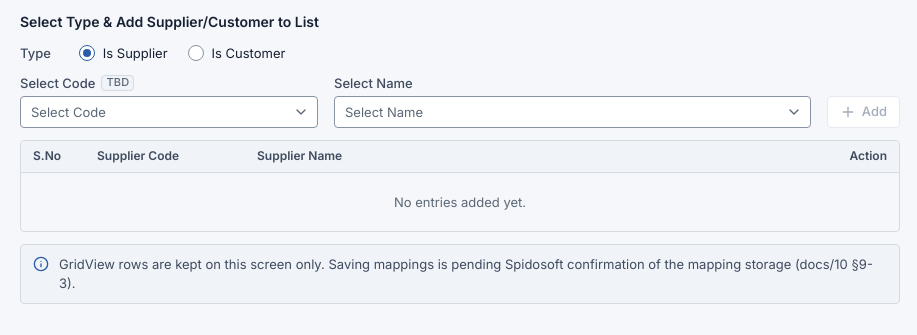
Test case: MappingSection › numbers rows and removes a row with Delete
This screenshot has width=917, height=335.
Select "SMSP0001" in the dropdown labelled "Select Code TBD" at x=169, y=112, box [20,96,318,128]
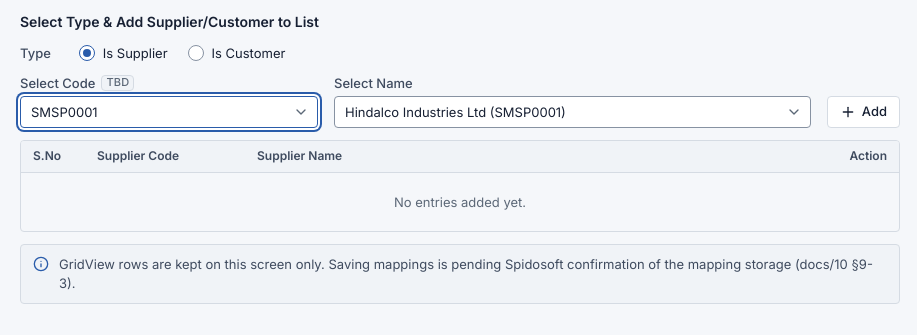
Click the button "Add" at x=863, y=112, box [827,96,900,128]
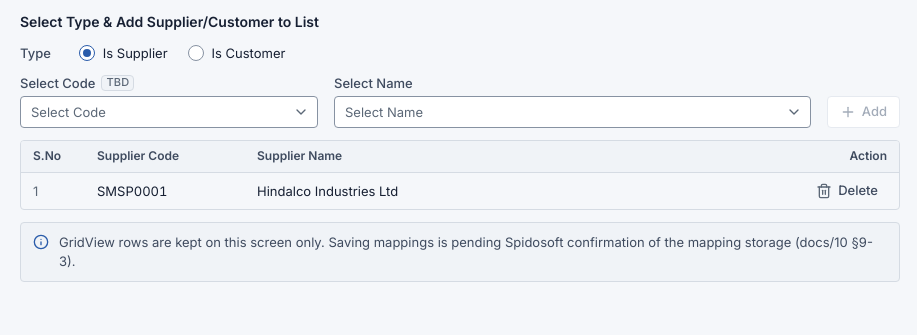
Select "SMSP0002" in the dropdown labelled "Select Code TBD" at x=169, y=112, box [20,96,318,128]
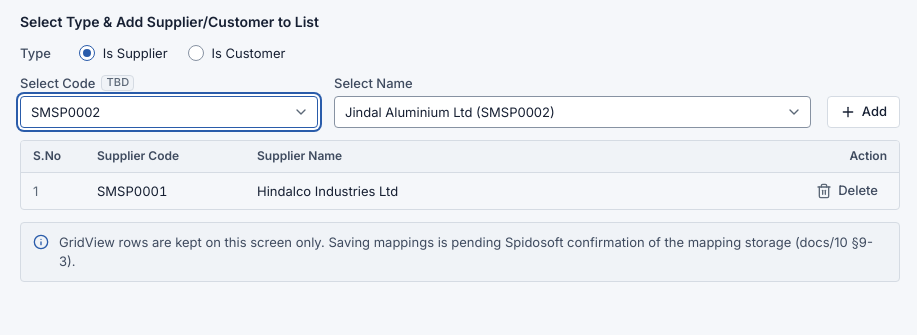
Click the button "Add" at x=863, y=112, box [827,96,900,128]
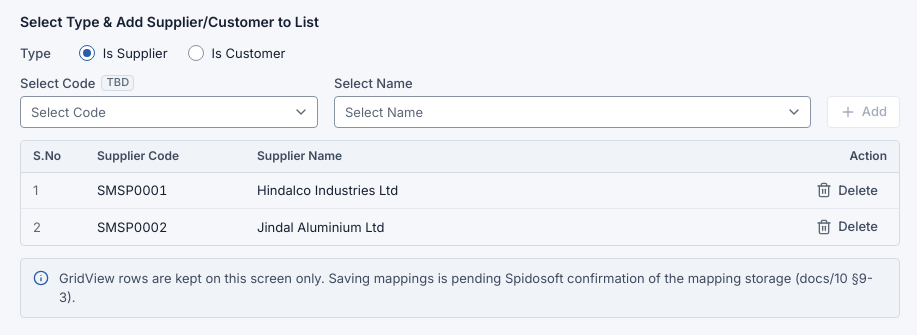
Now the number of rows is 3, box [21,141,899,173]; [21,173,899,209]; [21,209,899,245]
Click the button with aria-label "Delete SMSP0001" at x=847, y=190, box [807,176,887,204]
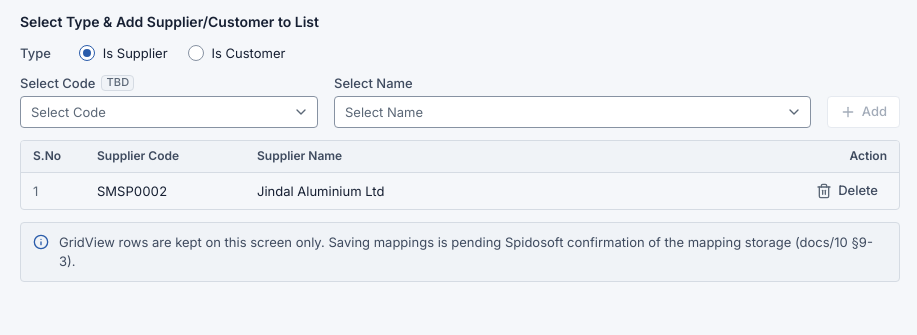
Now the row "1 SMSP0002 Jindal Aluminium Ltd Delete" is shown, box [21,173,899,209]
Now the number of rows is 2, box [21,141,899,173]; [21,173,899,209]
Now the cell "1" is shown, box [21,173,85,209]
